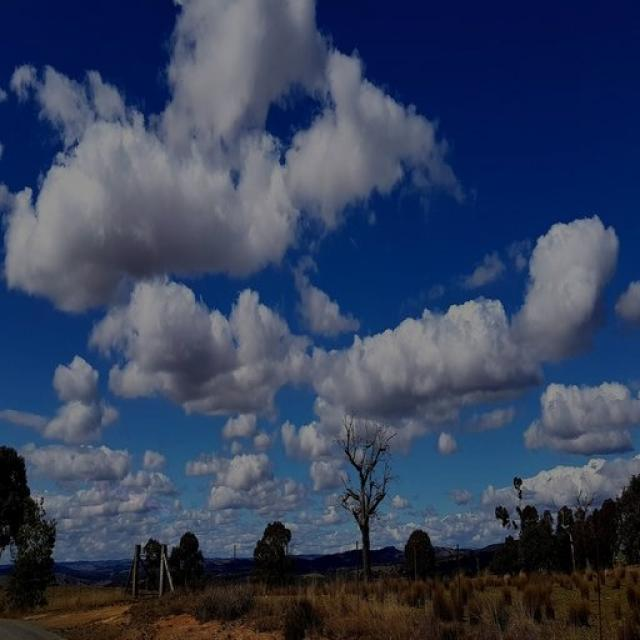watermark: (75, 468, 185, 522)
